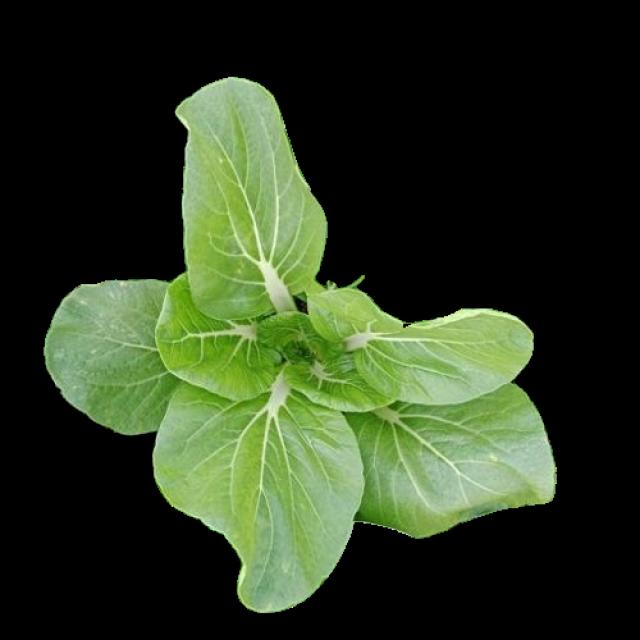healthy: (49, 77, 556, 608)
mature: (52, 80, 560, 610)
